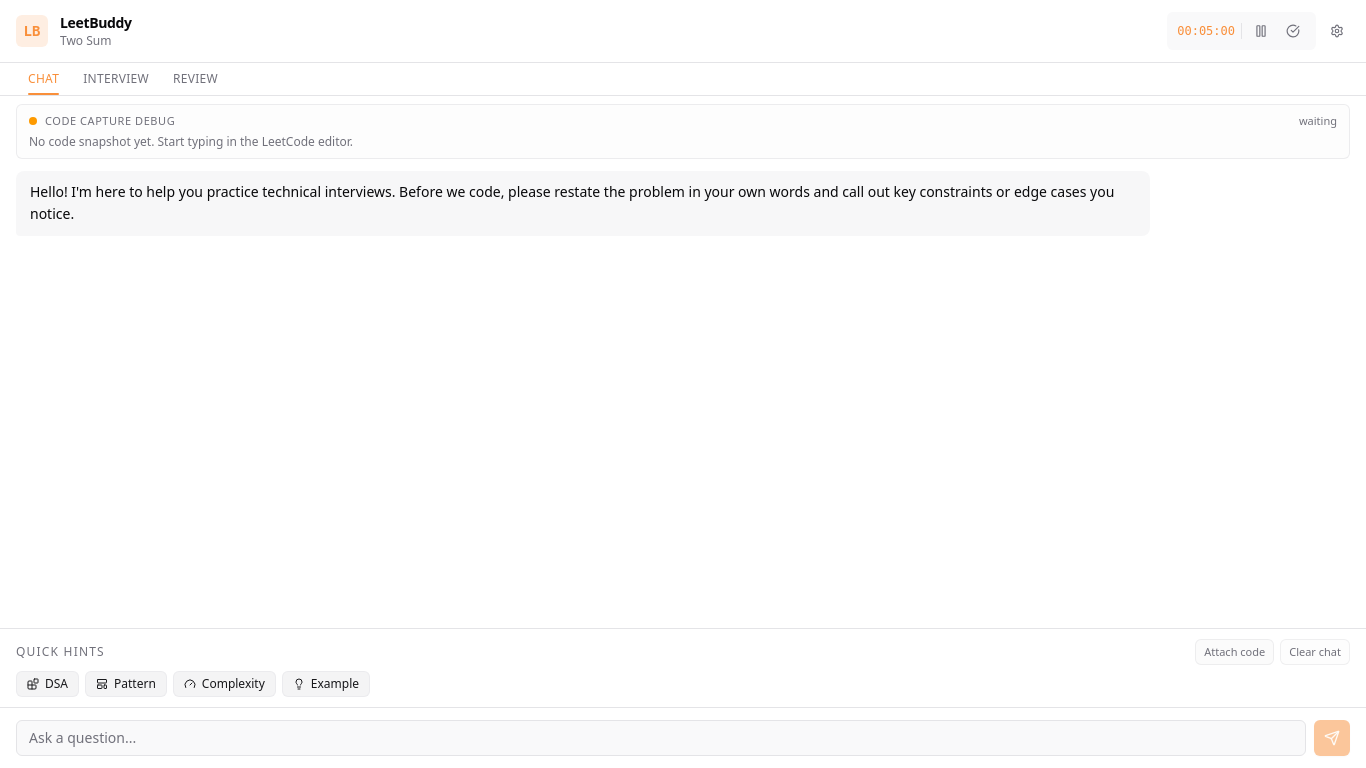
Test: Interview LLM state transitions › completes the interview with the recommendation returned by complete_interview
This screenshot has width=1366, height=768.
Expected: the text "Two Sum" is shown, top-left (60, 32), bottom-right (112, 49)
Click the button "Interview". click: click(116, 79)
box: top-left (71, 63), bottom-right (161, 95)
(page scrolled)
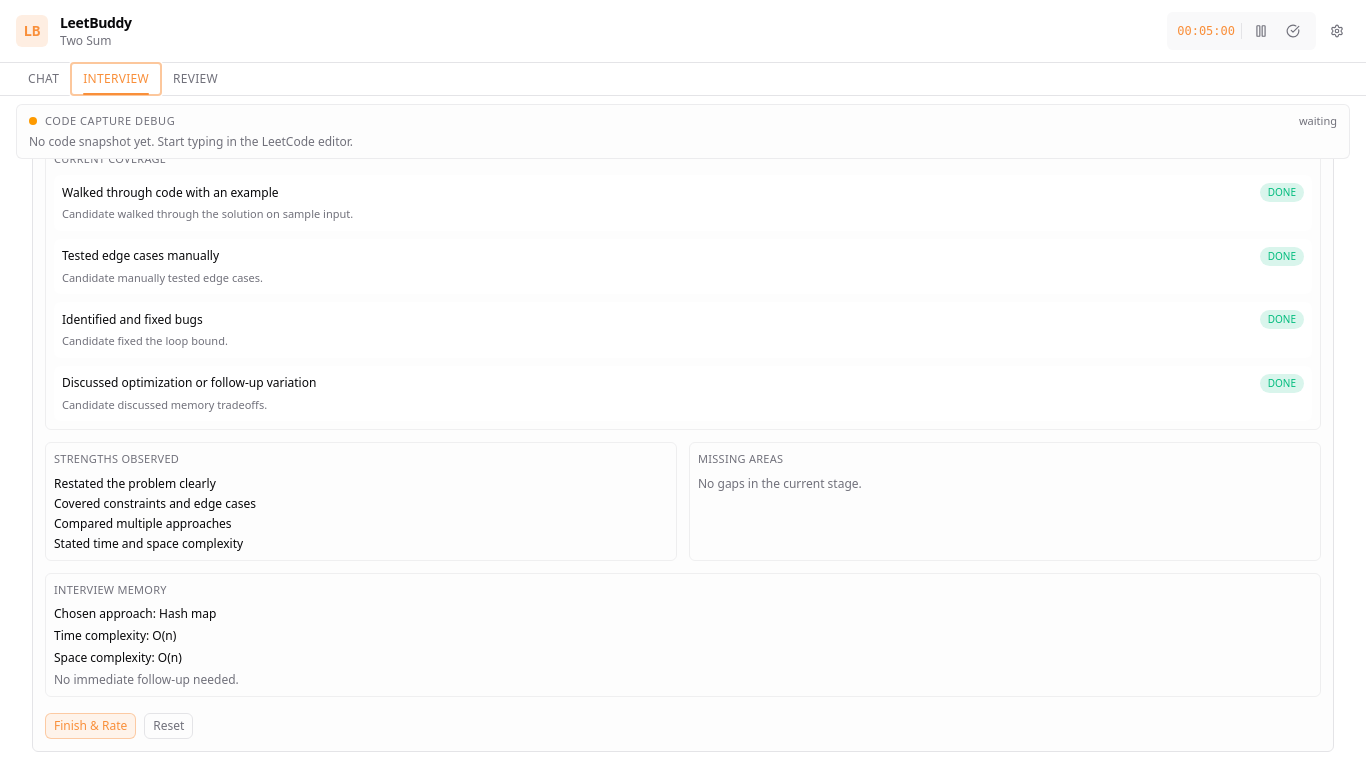
Click the button "Finish & Rate". click: click(91, 726)
box: top-left (45, 713), bottom-right (136, 739)
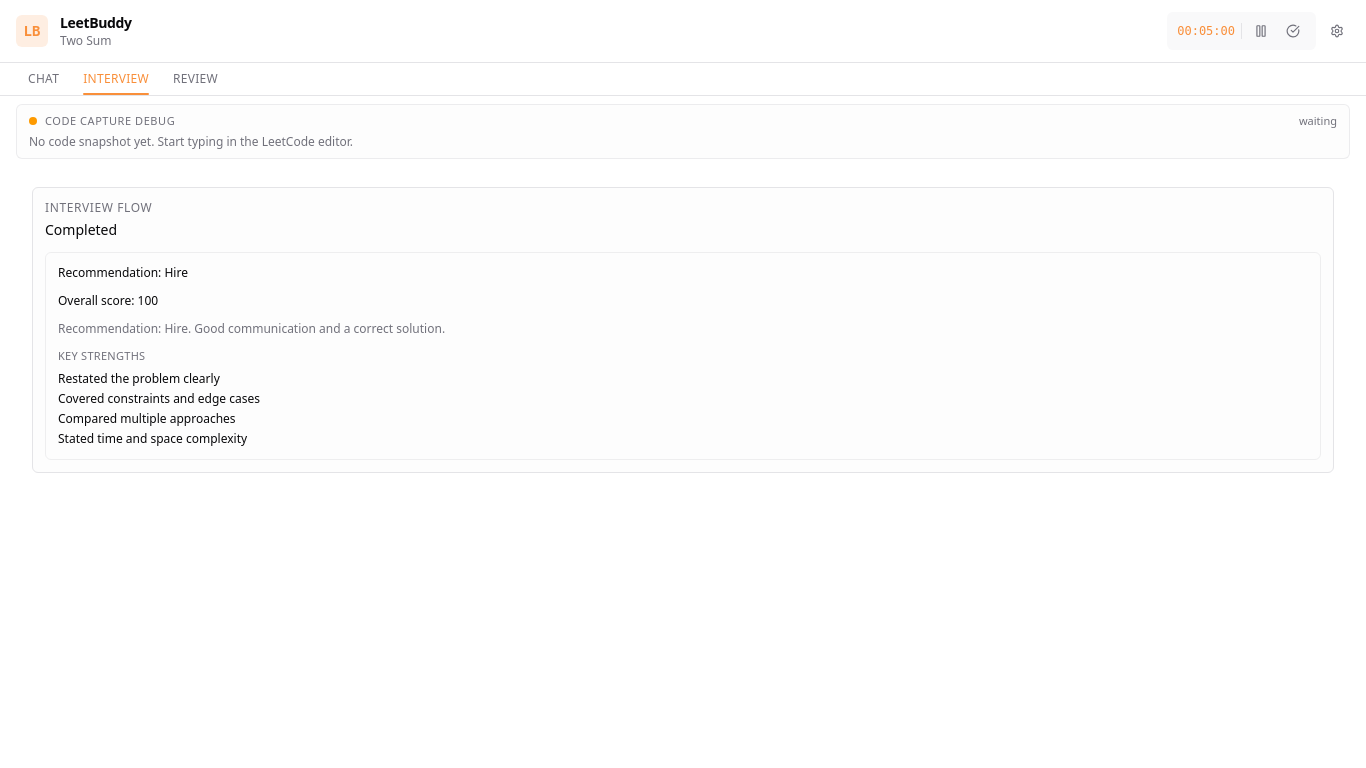
Expected: the text "Recommendation: Hire" is shown, top-left (58, 264), bottom-right (188, 280)
